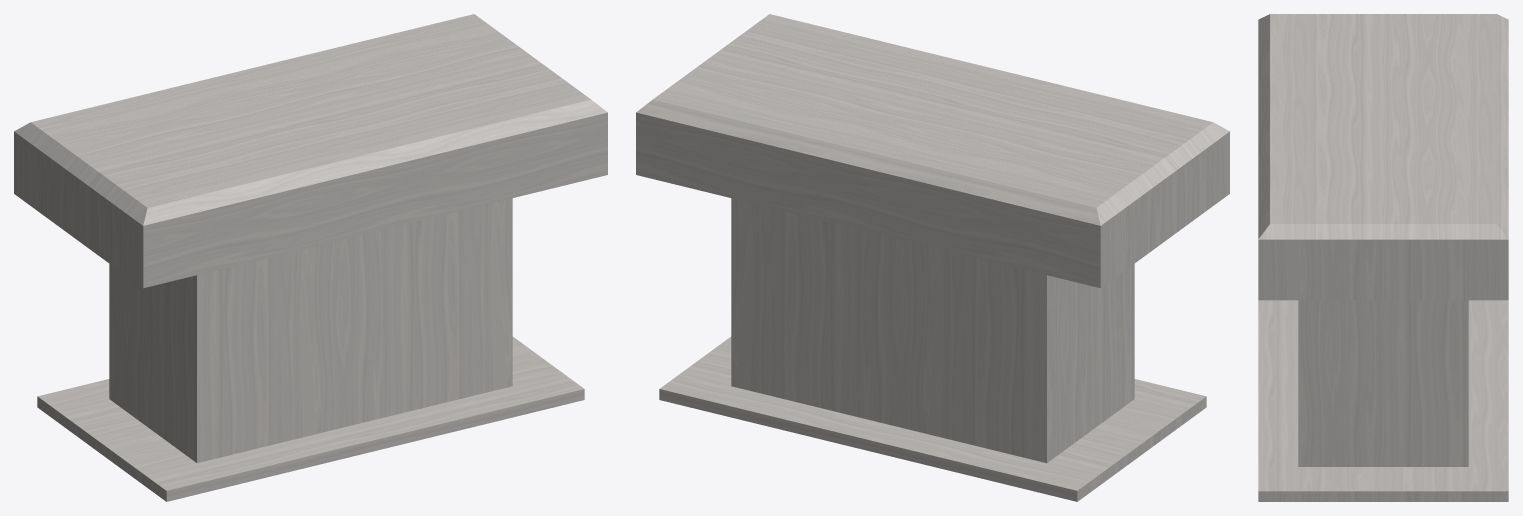
File: Chapel_PriestTable.fbx
The picture shows the model from 3 angles, left to right: view 1: azimuth 30°, elevation 25°; view 2: azimuth 150°, elevation 25°; view 3: azimuth 270°, elevation 25°; orthographic projection. The views are drawn at different scales.
Visible parts, largest first — view 1: PriestTable; view 2: PriestTable; view 3: PriestTable.
Boxes of the visible parts, x1,y1,x2,y2 form: PriestTable: (14, 14, 607, 501); PriestTable: (636, 14, 1229, 501); PriestTable: (1258, 14, 1508, 501).
Bounding box in the file's own units: 8.01 × 4.82 × 3.85.
1 material, 1 textured.
